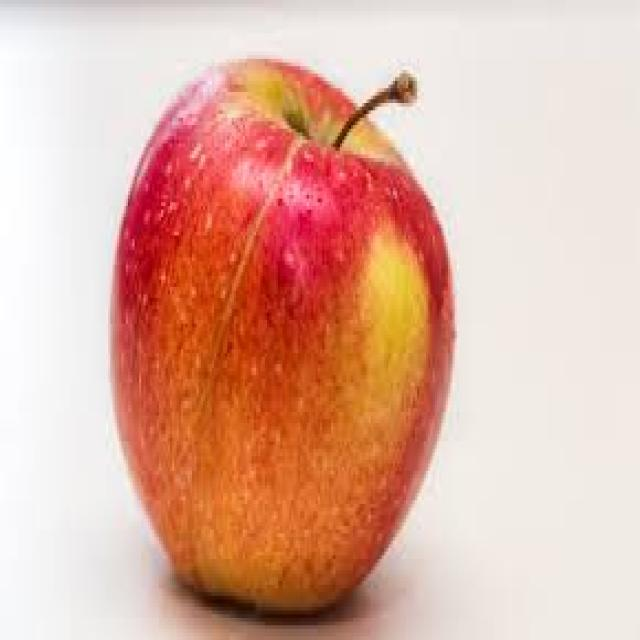apple: (105, 47, 466, 640)
